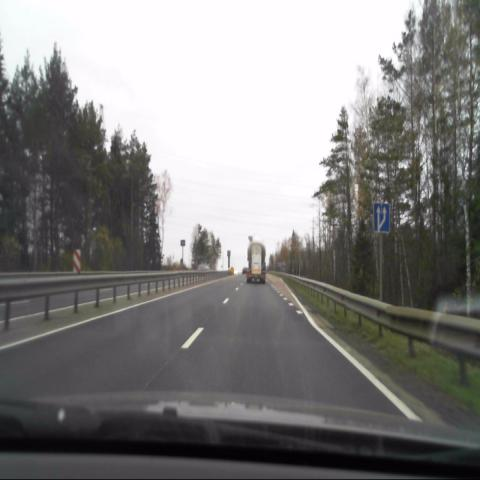5_15_3: (374, 202, 390, 234)
